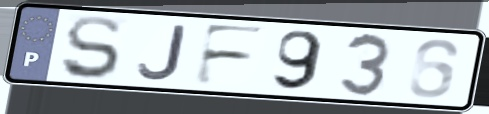3: (336, 31, 394, 99)
6: (405, 37, 461, 101)
9: (269, 28, 325, 93)
F: (190, 22, 271, 89)
J: (135, 23, 188, 82)
S: (59, 13, 125, 82)
